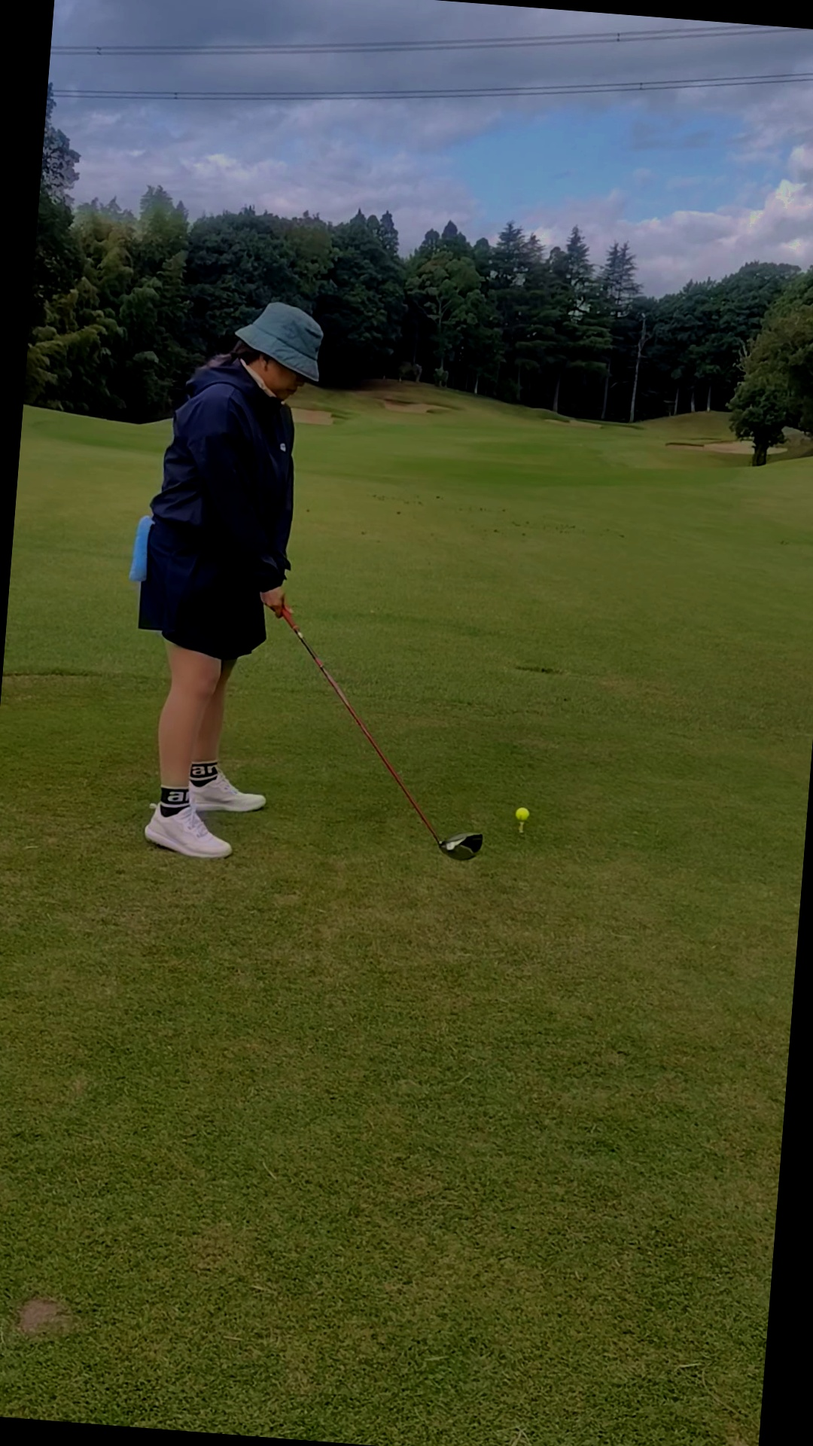clubhead: (342, 760, 593, 938)
